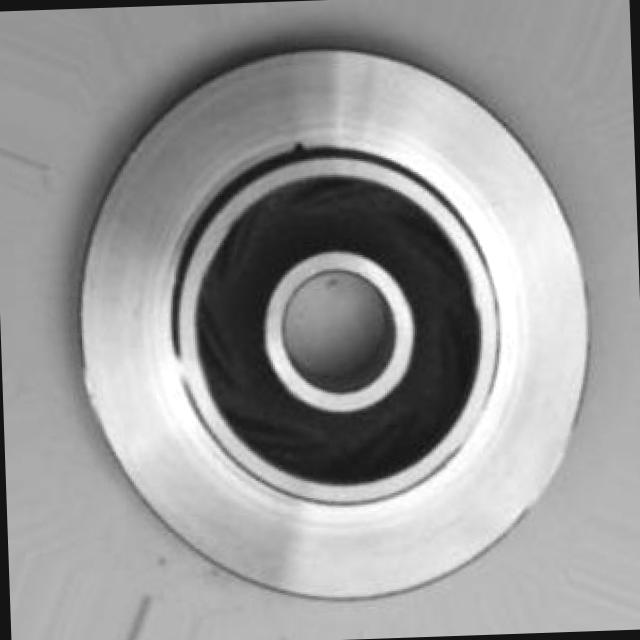Defect: (286, 134, 314, 158)
